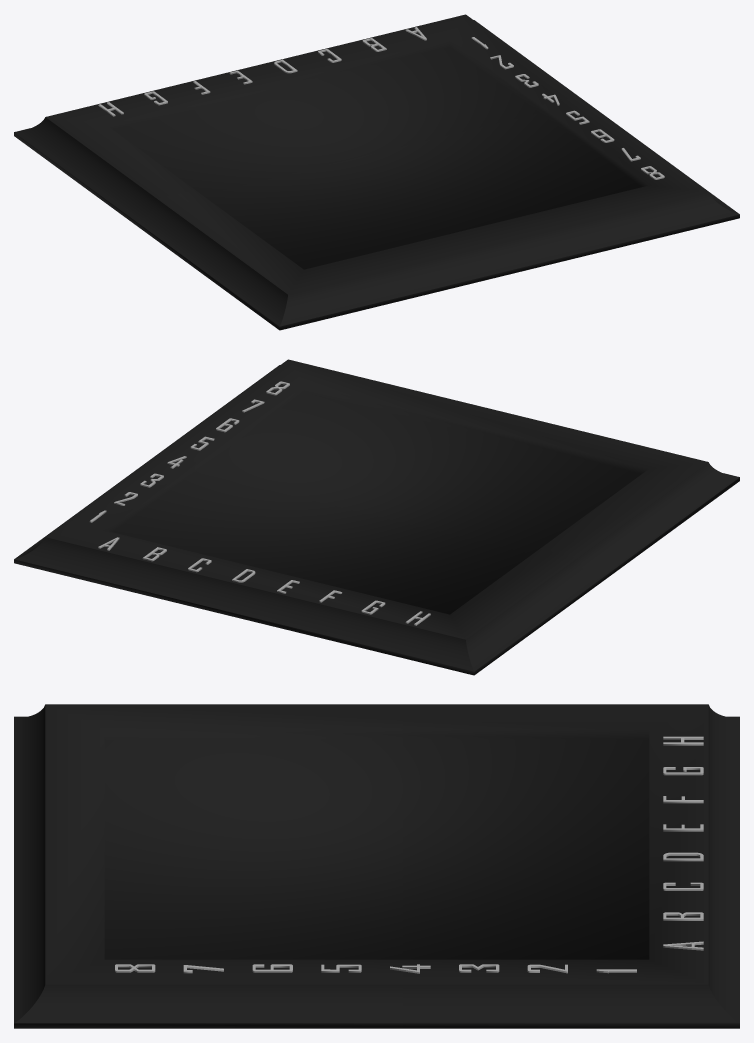
File: chessboardBorder.fbx
The picture shows the model from 3 angles, top to bottom: view 1: azimuth 30°, elevation 25°; view 2: azimuth 150°, elevation 25°; view 3: azimuth 270°, elevation 25°; orthographic projection. The views are drawn at different scales.
Visible parts, largest first — view 1: Chess Board Surround; view 2: Chess Board Surround; view 3: Chess Board Surround.
Part boxes in pixels (x1,y1,x2,y2): Chess Board Surround: (14, 14, 739, 330); Chess Board Surround: (14, 359, 739, 675); Chess Board Surround: (14, 704, 739, 1028).
Size of the model in its own units: 6399 by 316 by 6399.
Materials: 1 (1 with a texture image).
